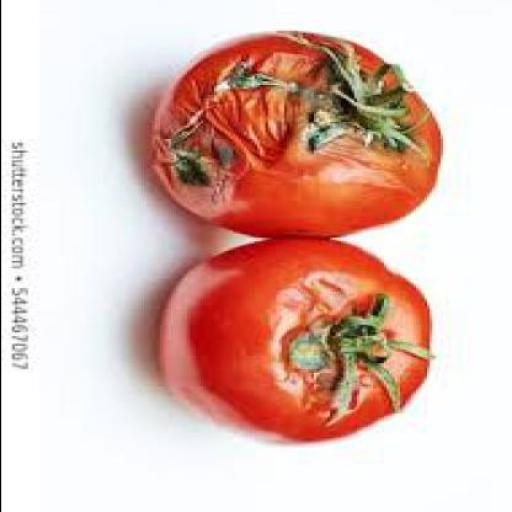biodegradable: (146, 30, 444, 238), (161, 238, 437, 443)
